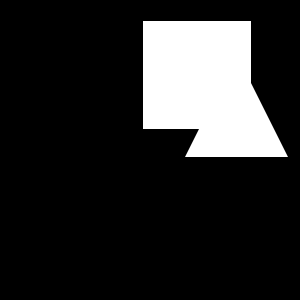circle: (143, 21, 251, 129)
triangle: (185, 54, 288, 157)
